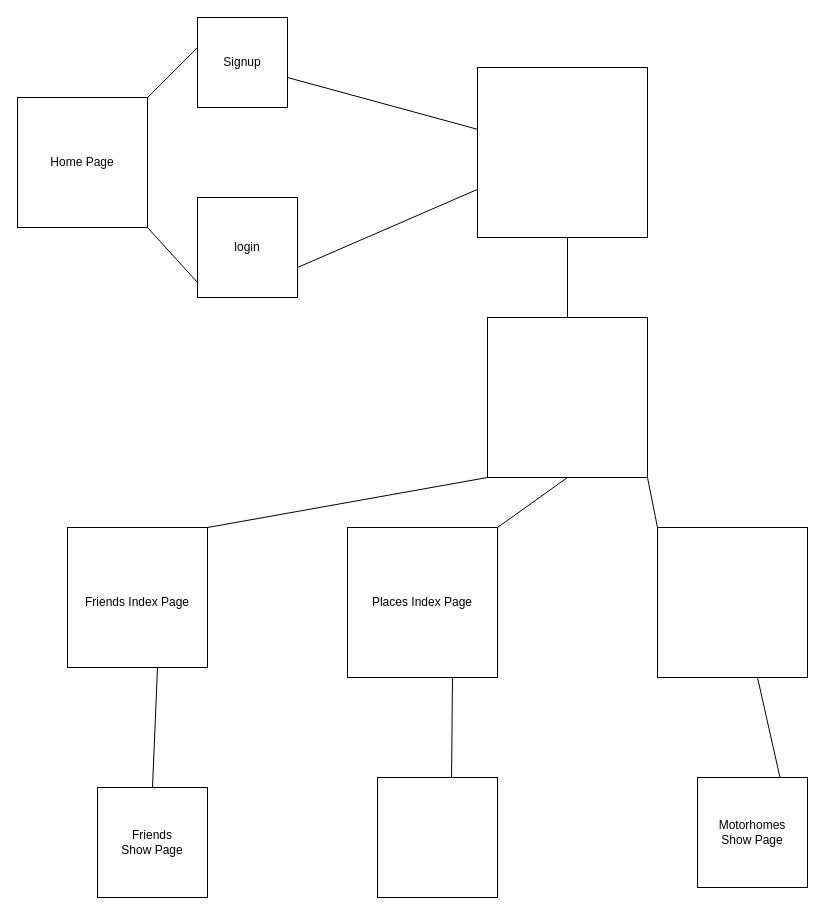
This 825x915 diagram has some shape labels left out. The centre of each missing label's shape, as x and y in pixels:
"Hybrids Index Page" belongs at (562,152).
"Hybrids Show Page" belongs at (567,397).
"Motorhomes Index Page" belongs at (732,602).
"Places Show Page" belongs at (437,837).
